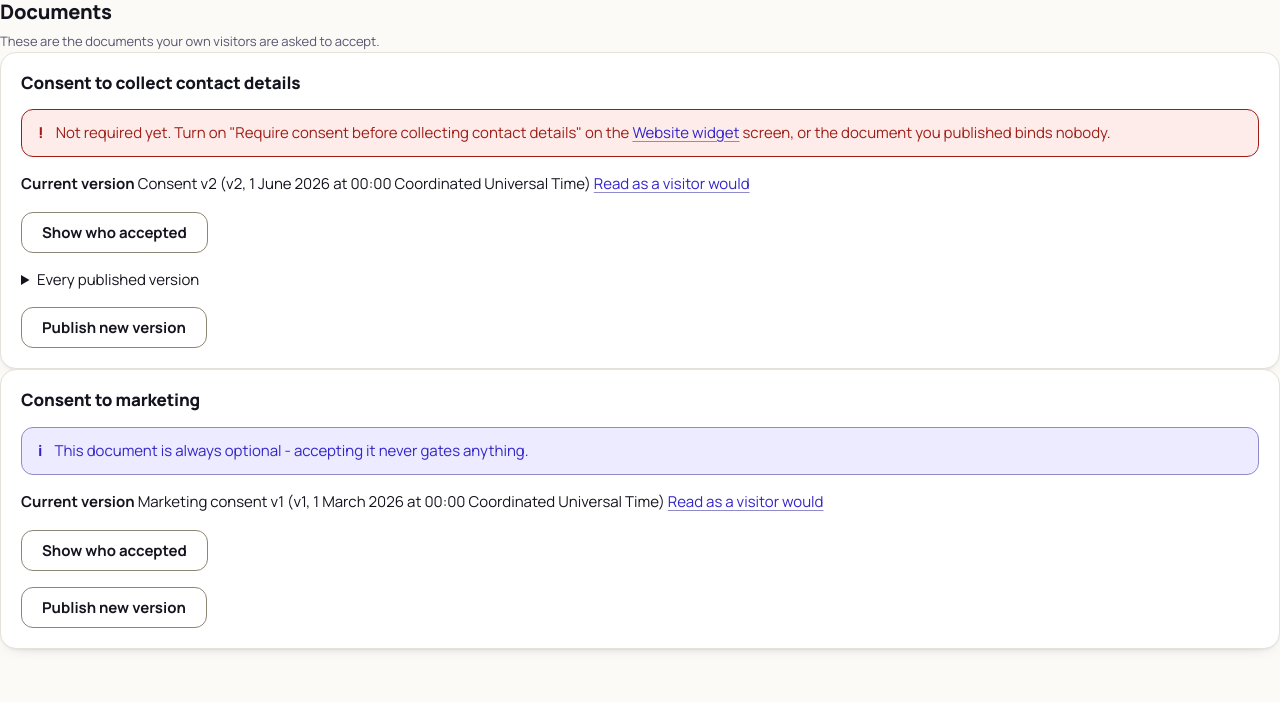
Test case: who accepted › shows the privacy note, and never a client IP or user agent column
Click the button "Show who accepted" below "Consent v2" at (114, 232), box [21,212,208,253]
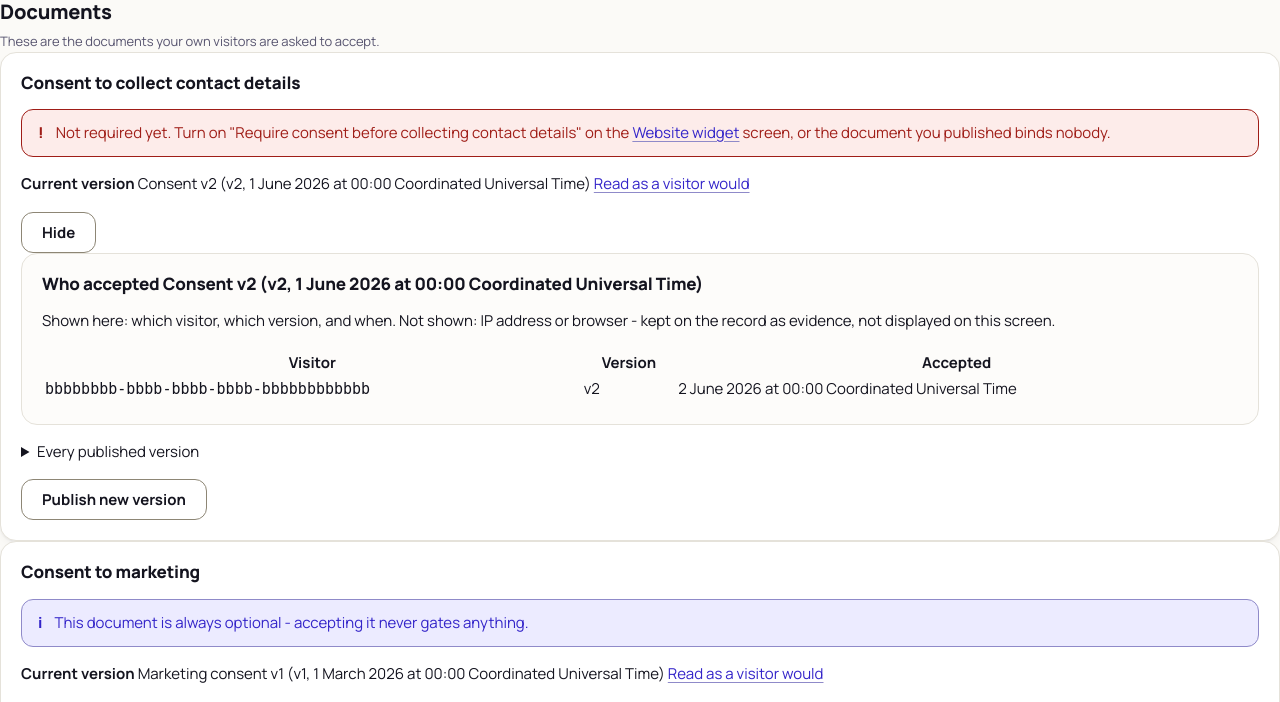
Check: the text "Shown here: which visitor, which version, and when. Not shown: IP address or browser" is shown, box [42,310,1055,331]
Check: the text "bbbbbbbb-bbbb-bbbb-bbbb-bbbbbbbbbbbb" is shown, box [45,380,370,398]
